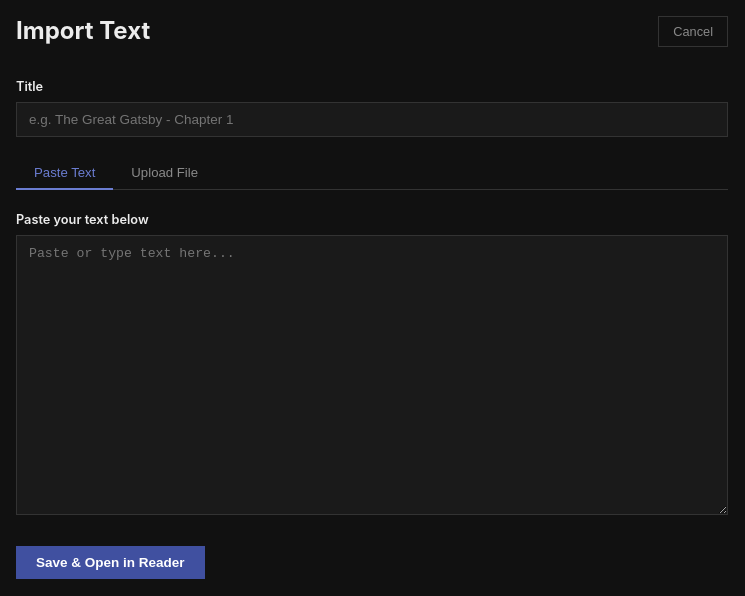
Test case: ImportPanel — Winglet Book refusals › surfaces the damaged file’s reason as detail
Click the tab "Upload File" at (165, 174), box [113,157,216,190]
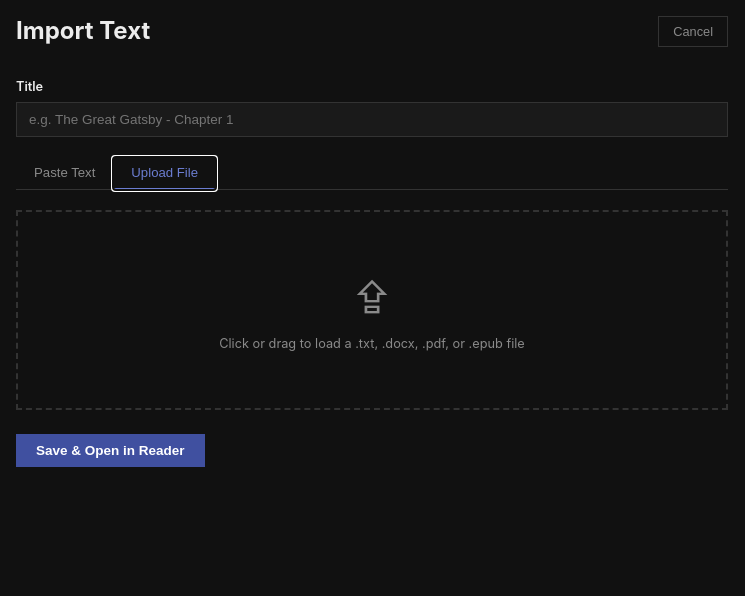
Click the button with aria-label "Drop file here or click to browse" at (372, 310), box [16,210,728,410]
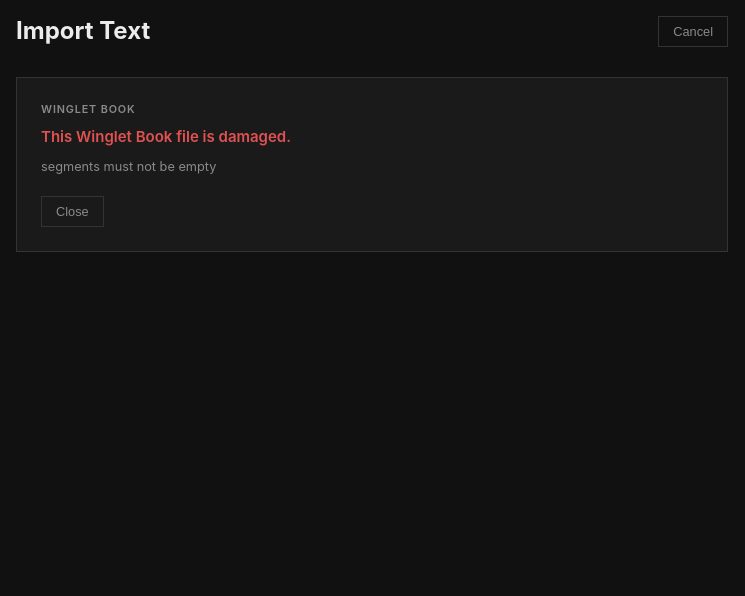
Expected: the text "segments must not be empty" is shown, [41,159,216,174]
